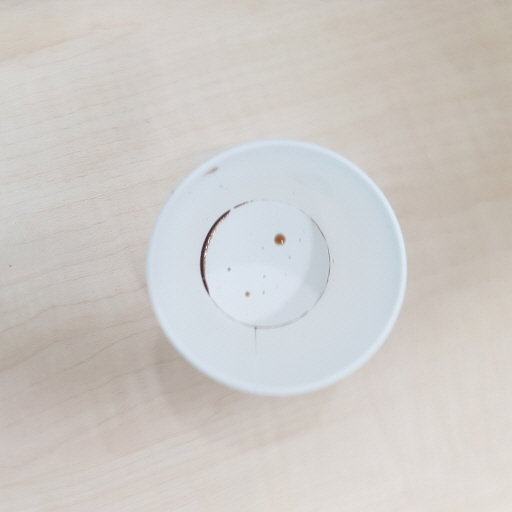Paper_1: (141, 136, 410, 397)
